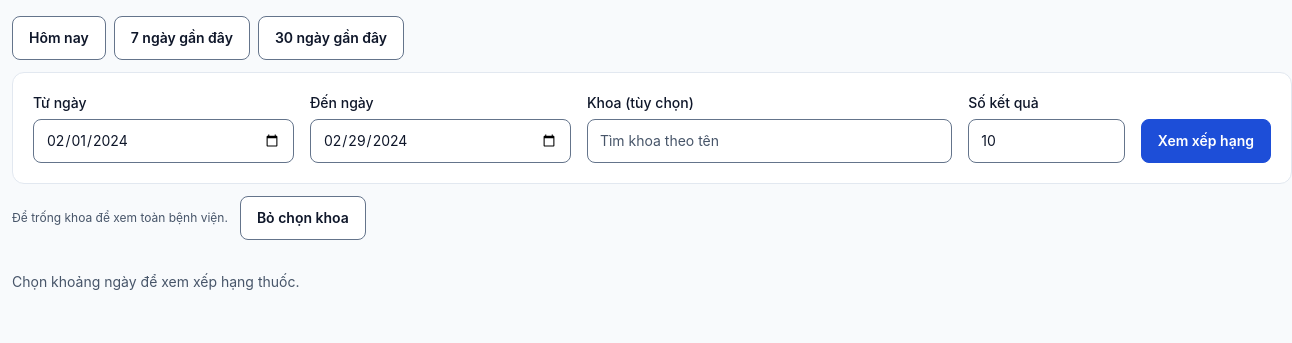
TopMedicinesView › rejects invalid rank limit 0
This screenshot has width=1292, height=343.
Replace the text in the number field labelled "Số kết quả" with "0": (1046, 141) 968,119 -> 1125,163
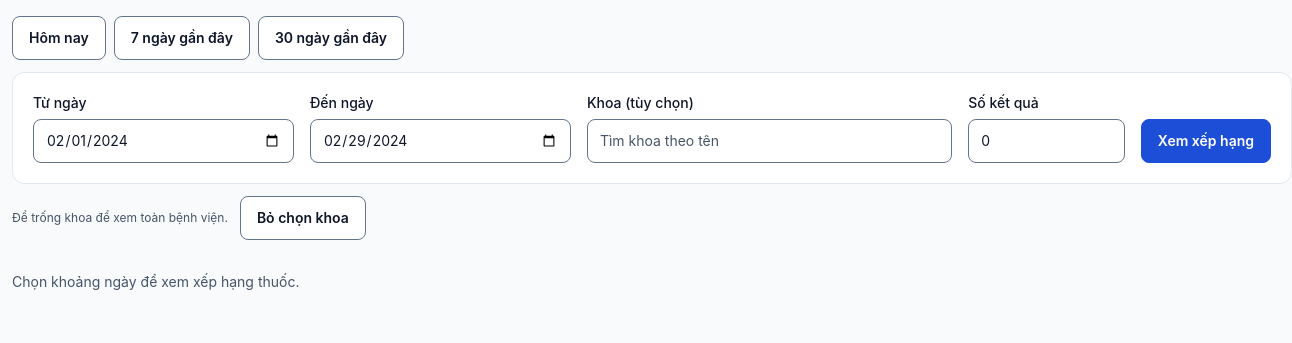
Submit the form labelled "Từ ngày", box 12,72 -> 1291,184
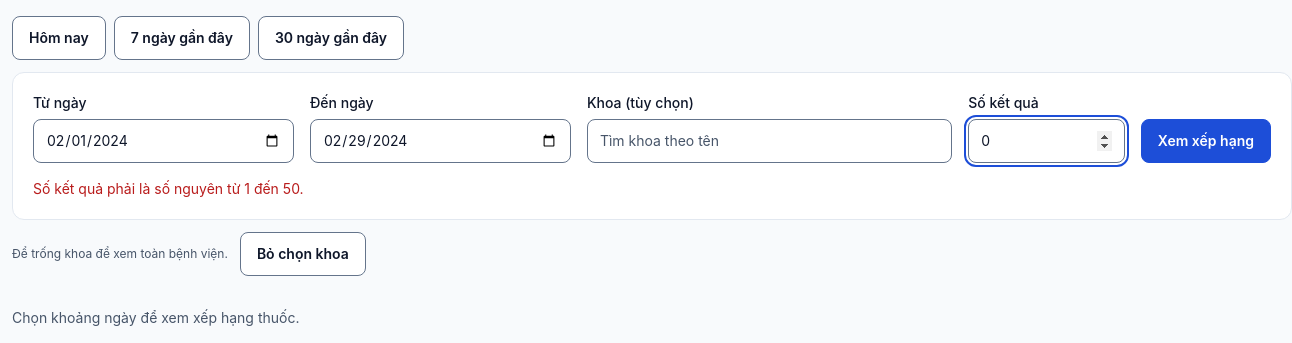
Expected: the message "Số kết quả phải là số nguyên từ 1 đến 50." is shown, 33,180 -> 304,197
